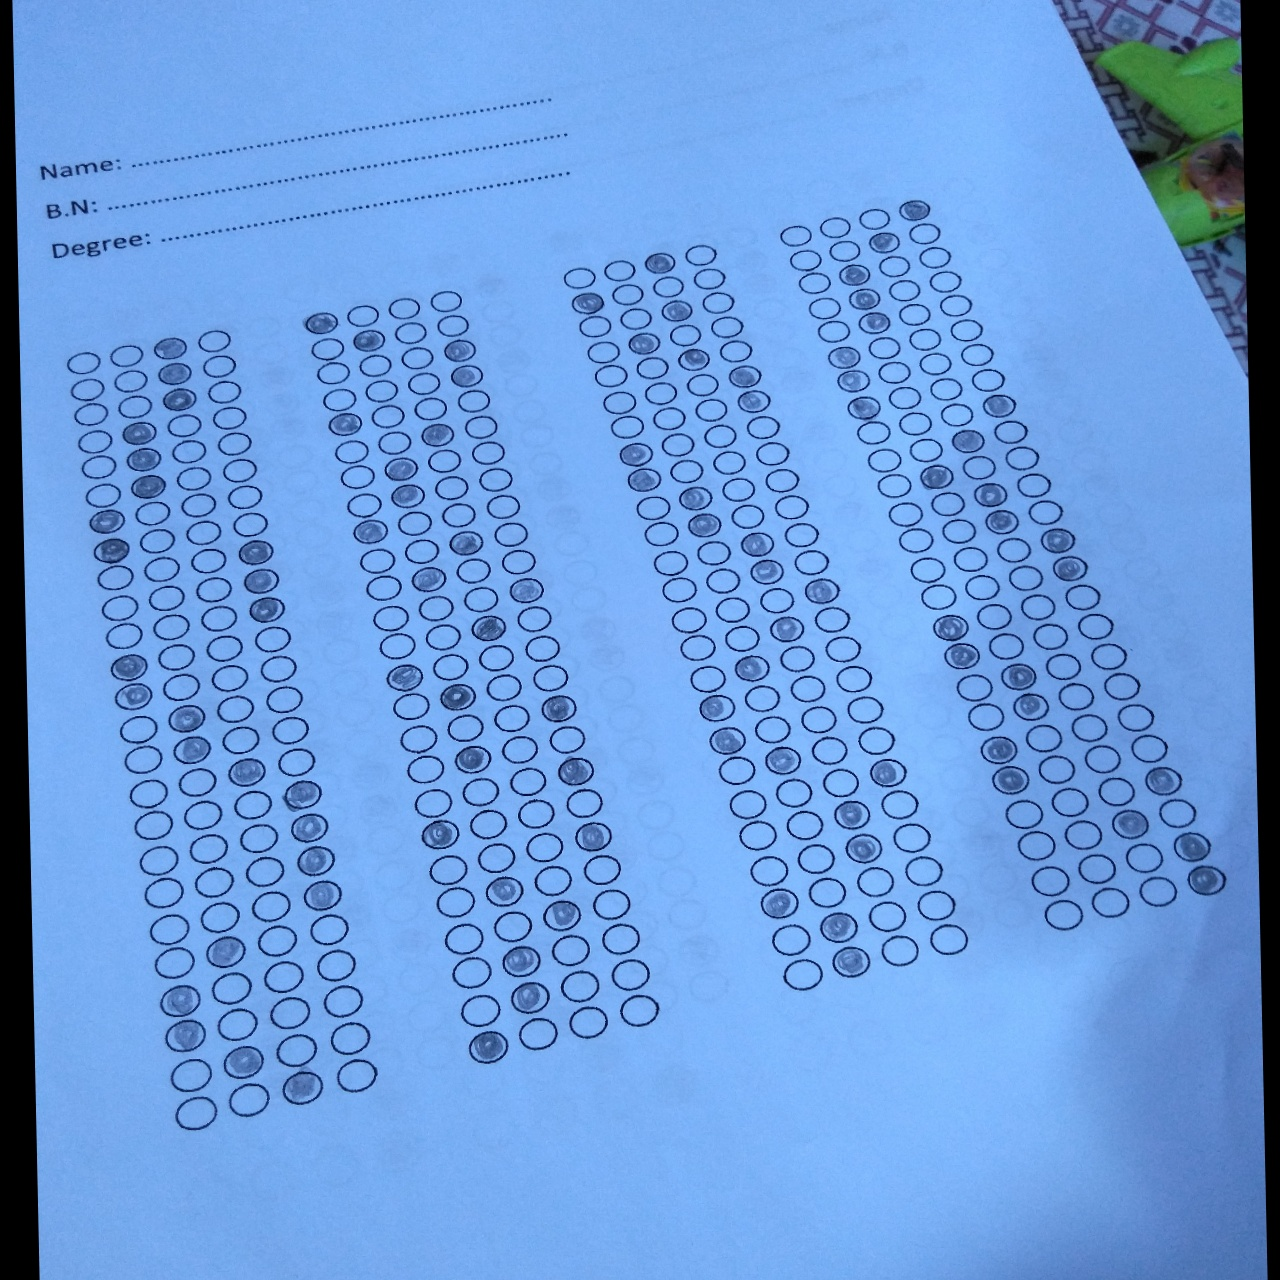not-c: (260, 959, 305, 996), (215, 1007, 260, 1043), (617, 993, 662, 1029), (781, 956, 826, 993), (877, 934, 922, 971), (256, 922, 299, 960), (333, 1057, 377, 1094), (273, 1033, 318, 1069), (209, 971, 253, 1007), (306, 912, 350, 948), (607, 956, 652, 993), (565, 1003, 610, 1040), (516, 1015, 560, 1051), (769, 922, 813, 959), (173, 1095, 219, 1130), (557, 968, 602, 1003), (315, 947, 359, 983), (225, 1082, 270, 1117), (328, 1021, 373, 1056), (320, 983, 365, 1019), (914, 888, 959, 924), (231, 788, 274, 823), (268, 995, 312, 1030), (169, 1058, 213, 1092), (926, 922, 971, 956), (198, 900, 240, 935), (244, 853, 286, 888), (1048, 784, 1090, 819), (148, 912, 191, 946), (181, 799, 224, 833), (176, 764, 219, 798), (890, 821, 933, 855), (193, 865, 234, 900), (275, 744, 316, 779), (250, 888, 292, 922), (188, 832, 230, 866), (238, 822, 280, 856), (819, 765, 862, 799), (1002, 797, 1044, 831), (1088, 886, 1130, 920), (1076, 851, 1118, 885), (1122, 840, 1164, 874), (268, 713, 312, 745), (903, 855, 946, 887), (806, 876, 850, 908), (784, 809, 828, 842), (736, 819, 779, 852), (727, 788, 770, 821), (716, 754, 760, 787), (748, 855, 792, 886), (878, 789, 922, 821), (806, 734, 851, 765), (523, 830, 564, 864), (427, 855, 468, 888), (435, 885, 476, 919), (491, 908, 532, 942), (600, 922, 641, 956), (550, 933, 591, 967), (1015, 829, 1056, 863), (1029, 864, 1070, 898), (1137, 874, 1178, 908), (142, 876, 184, 908), (152, 946, 195, 979), (219, 723, 261, 756), (866, 900, 908, 933), (1043, 899, 1085, 932), (1062, 819, 1104, 852), (1157, 796, 1199, 829), (795, 843, 838, 874), (771, 777, 815, 809), (855, 724, 898, 756), (564, 787, 604, 821), (467, 808, 508, 840), (475, 842, 516, 874), (581, 855, 622, 887), (591, 888, 632, 921), (451, 956, 492, 989), (459, 994, 501, 1027), (128, 776, 170, 808), (138, 844, 181, 876), (855, 866, 897, 898), (1128, 733, 1170, 764), (444, 922, 484, 955), (533, 864, 573, 897), (516, 798, 557, 830), (431, 652, 471, 683), (508, 767, 547, 798), (722, 624, 762, 655), (159, 670, 200, 701), (215, 694, 256, 724), (132, 810, 173, 840), (523, 633, 564, 663), (392, 692, 433, 722), (529, 663, 570, 694), (491, 703, 532, 734), (688, 663, 727, 695), (210, 663, 250, 694), (120, 715, 159, 745), (444, 713, 484, 743), (482, 673, 522, 703), (499, 734, 539, 764), (413, 789, 452, 819), (753, 714, 792, 744), (798, 704, 838, 735), (845, 695, 885, 726), (835, 663, 874, 694), (788, 674, 828, 704), (777, 644, 817, 674), (678, 633, 717, 663), (669, 605, 709, 635), (1076, 612, 1116, 642), (1043, 652, 1083, 682), (151, 613, 192, 642), (264, 685, 305, 714), (122, 745, 163, 775), (477, 644, 518, 673), (399, 724, 440, 754), (546, 726, 587, 755), (1036, 755, 1077, 784), (1096, 777, 1137, 806), (258, 654, 297, 685), (813, 604, 852, 634), (1102, 672, 1141, 702), (104, 621, 144, 651), (204, 633, 244, 662), (377, 632, 417, 661), (422, 622, 462, 652), (515, 605, 554, 634), (406, 755, 445, 784), (461, 777, 501, 806), (782, 520, 822, 550), (1019, 593, 1058, 622), (1082, 743, 1122, 772), (98, 594, 139, 622), (252, 626, 293, 654), (1069, 713, 1107, 743), (743, 683, 782, 713), (823, 634, 862, 663), (660, 576, 699, 605), (651, 549, 689, 578), (975, 602, 1014, 632), (986, 632, 1024, 661), (954, 674, 993, 703), (966, 702, 1005, 731), (1056, 682, 1095, 712), (1024, 723, 1063, 753), (198, 604, 238, 632), (490, 520, 530, 549), (1030, 622, 1070, 651), (1089, 641, 1126, 670), (1117, 702, 1155, 731), (757, 587, 796, 615), (792, 549, 831, 577), (704, 567, 743, 595), (694, 539, 733, 567), (772, 493, 811, 522), (729, 502, 768, 530), (642, 519, 681, 547), (962, 574, 1001, 602), (919, 583, 958, 611), (132, 501, 172, 527), (138, 527, 178, 554), (95, 564, 135, 591), (147, 584, 186, 611), (156, 644, 196, 670), (359, 549, 399, 576), (498, 547, 538, 574), (452, 557, 492, 584), (365, 574, 404, 601), (416, 595, 456, 622), (459, 586, 499, 613), (712, 595, 751, 622), (634, 493, 674, 520), (896, 527, 935, 554), (951, 545, 990, 572), (403, 539, 443, 566), (175, 464, 212, 492), (719, 475, 756, 503), (763, 467, 801, 495), (660, 430, 697, 458), (701, 422, 738, 450), (745, 414, 783, 442), (908, 554, 946, 583), (83, 482, 122, 509), (179, 491, 218, 518), (142, 556, 181, 583), (195, 576, 233, 602), (394, 510, 433, 537), (440, 502, 478, 529), (483, 493, 522, 520), (372, 605, 410, 632), (754, 441, 792, 468), (993, 536, 1032, 563), (1006, 564, 1044, 591), (1063, 583, 1102, 610), (188, 549, 227, 574), (712, 449, 748, 477), (668, 457, 704, 485), (186, 519, 224, 546), (462, 413, 499, 440), (865, 447, 903, 474), (886, 501, 924, 527), (1027, 499, 1064, 526), (940, 517, 978, 544), (874, 474, 913, 499), (958, 455, 996, 481), (206, 379, 243, 406), (166, 413, 203, 440), (425, 448, 462, 475), (477, 467, 513, 493), (195, 327, 232, 353), (199, 353, 237, 379), (211, 404, 248, 430), (216, 430, 253, 456), (231, 512, 268, 538), (64, 350, 102, 376), (68, 377, 105, 403), (72, 402, 109, 428), (80, 454, 117, 479), (170, 440, 207, 465), (343, 302, 381, 328), (386, 295, 423, 321), (907, 437, 945, 463), (928, 491, 966, 517), (1002, 445, 1040, 471), (701, 290, 736, 316), (683, 241, 719, 268), (778, 222, 813, 248), (928, 268, 964, 295), (917, 350, 952, 377), (855, 418, 890, 445), (992, 418, 1027, 445), (111, 368, 148, 394), (117, 394, 154, 420), (76, 429, 113, 455), (400, 346, 436, 372), (470, 440, 506, 465), (433, 475, 469, 501), (917, 244, 953, 270), (1015, 472, 1051, 498), (108, 343, 145, 368), (651, 406, 685, 433), (610, 413, 644, 440), (719, 338, 753, 365), (377, 430, 413, 456), (334, 440, 369, 465), (340, 464, 375, 490), (346, 493, 381, 519), (694, 396, 729, 422), (685, 372, 720, 397), (635, 355, 670, 381), (594, 362, 629, 388), (577, 314, 612, 340), (618, 305, 653, 331), (710, 314, 745, 340), (651, 274, 686, 300), (857, 205, 892, 231), (806, 295, 842, 321), (867, 334, 903, 360), (907, 326, 942, 352), (938, 292, 973, 318), (887, 278, 922, 304), (877, 254, 912, 280), (928, 376, 964, 402), (886, 383, 921, 409), (897, 410, 932, 436), (939, 402, 974, 428), (222, 458, 258, 483), (226, 485, 263, 510), (369, 403, 406, 428), (455, 388, 491, 413), (815, 319, 851, 343), (365, 377, 399, 403), (644, 380, 678, 406), (587, 340, 621, 366), (818, 215, 852, 240), (949, 318, 983, 343), (393, 320, 428, 345), (309, 336, 345, 361), (358, 353, 393, 377), (406, 372, 441, 396), (321, 387, 356, 411), (601, 390, 636, 415), (667, 322, 702, 347), (692, 266, 727, 291), (907, 220, 942, 245), (898, 302, 933, 327), (877, 360, 912, 384), (959, 342, 994, 367), (971, 368, 1006, 393), (434, 314, 470, 338), (315, 361, 350, 384), (411, 396, 447, 420), (425, 290, 462, 312), (797, 271, 830, 295), (610, 282, 644, 306), (602, 259, 636, 282), (561, 266, 595, 290), (828, 239, 862, 263), (790, 248, 823, 272)
taken-c: (467, 1028, 512, 1065), (538, 897, 583, 934), (831, 942, 876, 980), (203, 934, 248, 971), (842, 831, 887, 867), (222, 1043, 266, 1080), (499, 942, 544, 979), (483, 872, 527, 908), (572, 818, 617, 855), (818, 911, 863, 947), (757, 886, 802, 922), (830, 798, 874, 835), (867, 755, 912, 791), (757, 885, 801, 921), (1185, 863, 1228, 899), (281, 1071, 326, 1107), (509, 980, 553, 1015), (763, 744, 808, 779), (165, 1019, 209, 1054), (1170, 829, 1213, 864), (159, 983, 204, 1017), (416, 818, 461, 852), (765, 612, 809, 646), (696, 692, 738, 726), (731, 652, 774, 686), (979, 733, 1021, 767), (998, 661, 1040, 695), (941, 640, 983, 674), (1110, 806, 1152, 840), (707, 726, 750, 758), (553, 755, 598, 787), (1010, 692, 1051, 726), (1142, 764, 1183, 798), (171, 734, 213, 767), (282, 777, 325, 810), (302, 879, 345, 912), (989, 764, 1032, 797), (504, 576, 547, 607), (165, 703, 207, 735), (295, 845, 338, 877), (538, 694, 580, 726), (443, 527, 485, 559), (348, 517, 390, 549), (931, 612, 973, 644), (382, 662, 425, 693), (407, 566, 450, 597), (290, 812, 331, 844), (471, 613, 512, 645), (801, 577, 842, 608), (226, 757, 268, 788), (450, 745, 492, 776), (437, 683, 479, 714), (915, 463, 958, 493), (91, 536, 132, 566), (946, 428, 988, 457), (113, 681, 152, 712), (234, 538, 275, 567), (1039, 527, 1080, 557), (981, 508, 1022, 537), (971, 482, 1012, 511), (243, 566, 282, 595), (111, 653, 151, 682), (1050, 554, 1091, 583), (824, 343, 862, 374), (381, 455, 420, 484), (836, 367, 874, 396), (247, 595, 287, 624), (440, 338, 479, 366), (856, 309, 893, 339), (387, 482, 425, 510), (418, 422, 457, 450), (448, 362, 486, 390), (325, 411, 363, 440), (738, 530, 777, 558), (748, 557, 787, 585), (159, 386, 199, 413), (120, 420, 159, 447), (981, 392, 1017, 421), (847, 393, 884, 422), (350, 327, 388, 355), (301, 309, 339, 338), (836, 261, 873, 290), (618, 440, 655, 468), (128, 474, 166, 501), (88, 508, 127, 535), (845, 285, 881, 313), (866, 229, 903, 257), (896, 197, 932, 225), (570, 290, 606, 318), (658, 297, 694, 325), (735, 388, 771, 416), (626, 465, 662, 493), (678, 484, 714, 512), (687, 511, 723, 539), (125, 445, 163, 472), (151, 336, 191, 361), (155, 362, 195, 387), (642, 248, 679, 275), (626, 331, 662, 358), (726, 363, 762, 390), (678, 347, 713, 374)
